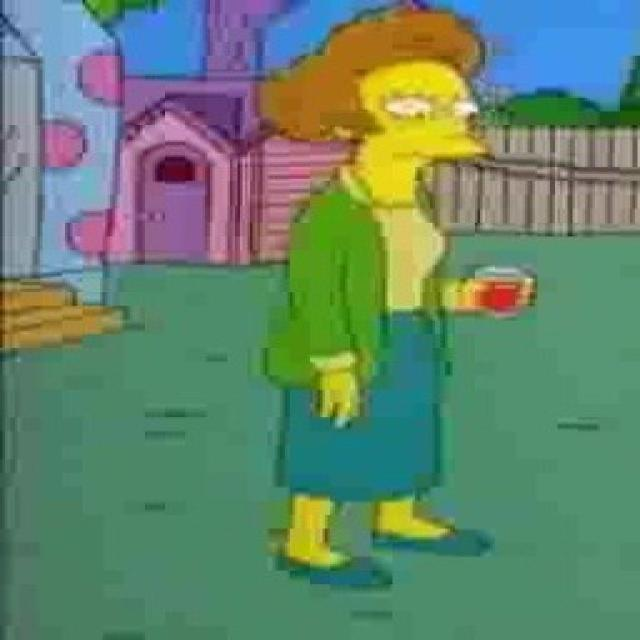Edna Krappel: (246, 1, 499, 208)
